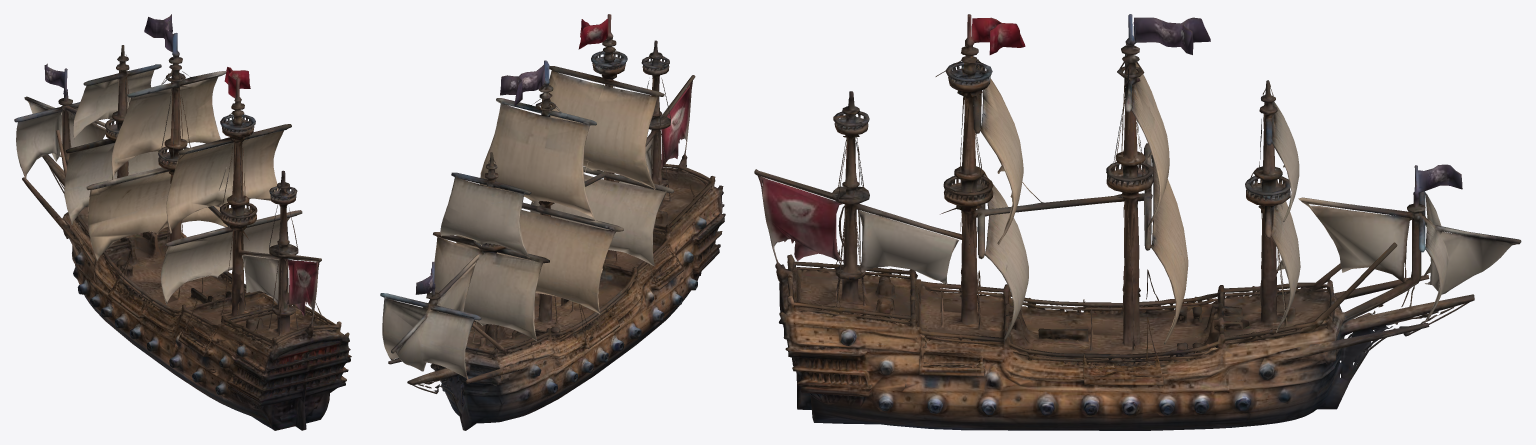
Rendered from warship.glb.
3 views of the same model, side by side, from view 1: azimuth 30°, elevation 25°; view 2: azimuth 150°, elevation 25°; view 3: azimuth 270°, elevation 25° (orthographic). The views are drawn at different scales.
Visible parts, largest first — view 1: node_0; view 2: node_0; view 3: node_0.
Part boxes in pixels (left/top/right/bottom): node_0: left=14, top=14, right=351, bottom=430; node_0: left=380, top=14, right=725, bottom=430; node_0: left=754, top=14, right=1521, bottom=430.
Bounding box in the file's own units: 0.3658 × 0.6458 × 1.14.
Materials: 1 (1 with a texture image).
